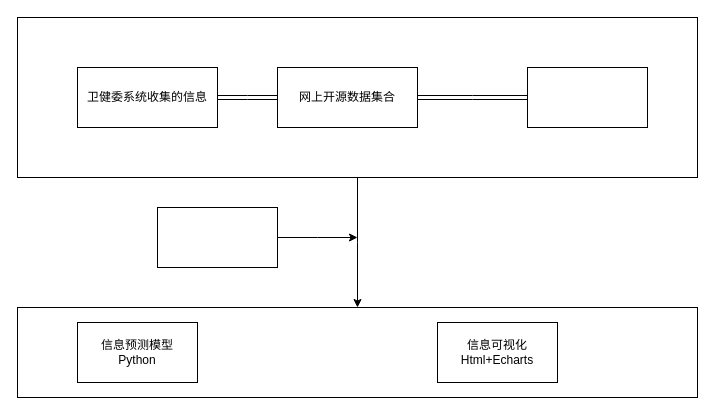
Image size: 715x415. Some labels were removed from this diagram. Each missing label, with the box of its shape:
其他形式收集的信息: (526, 66, 648, 128)
爬取新闻小插件: (156, 206, 278, 268)
